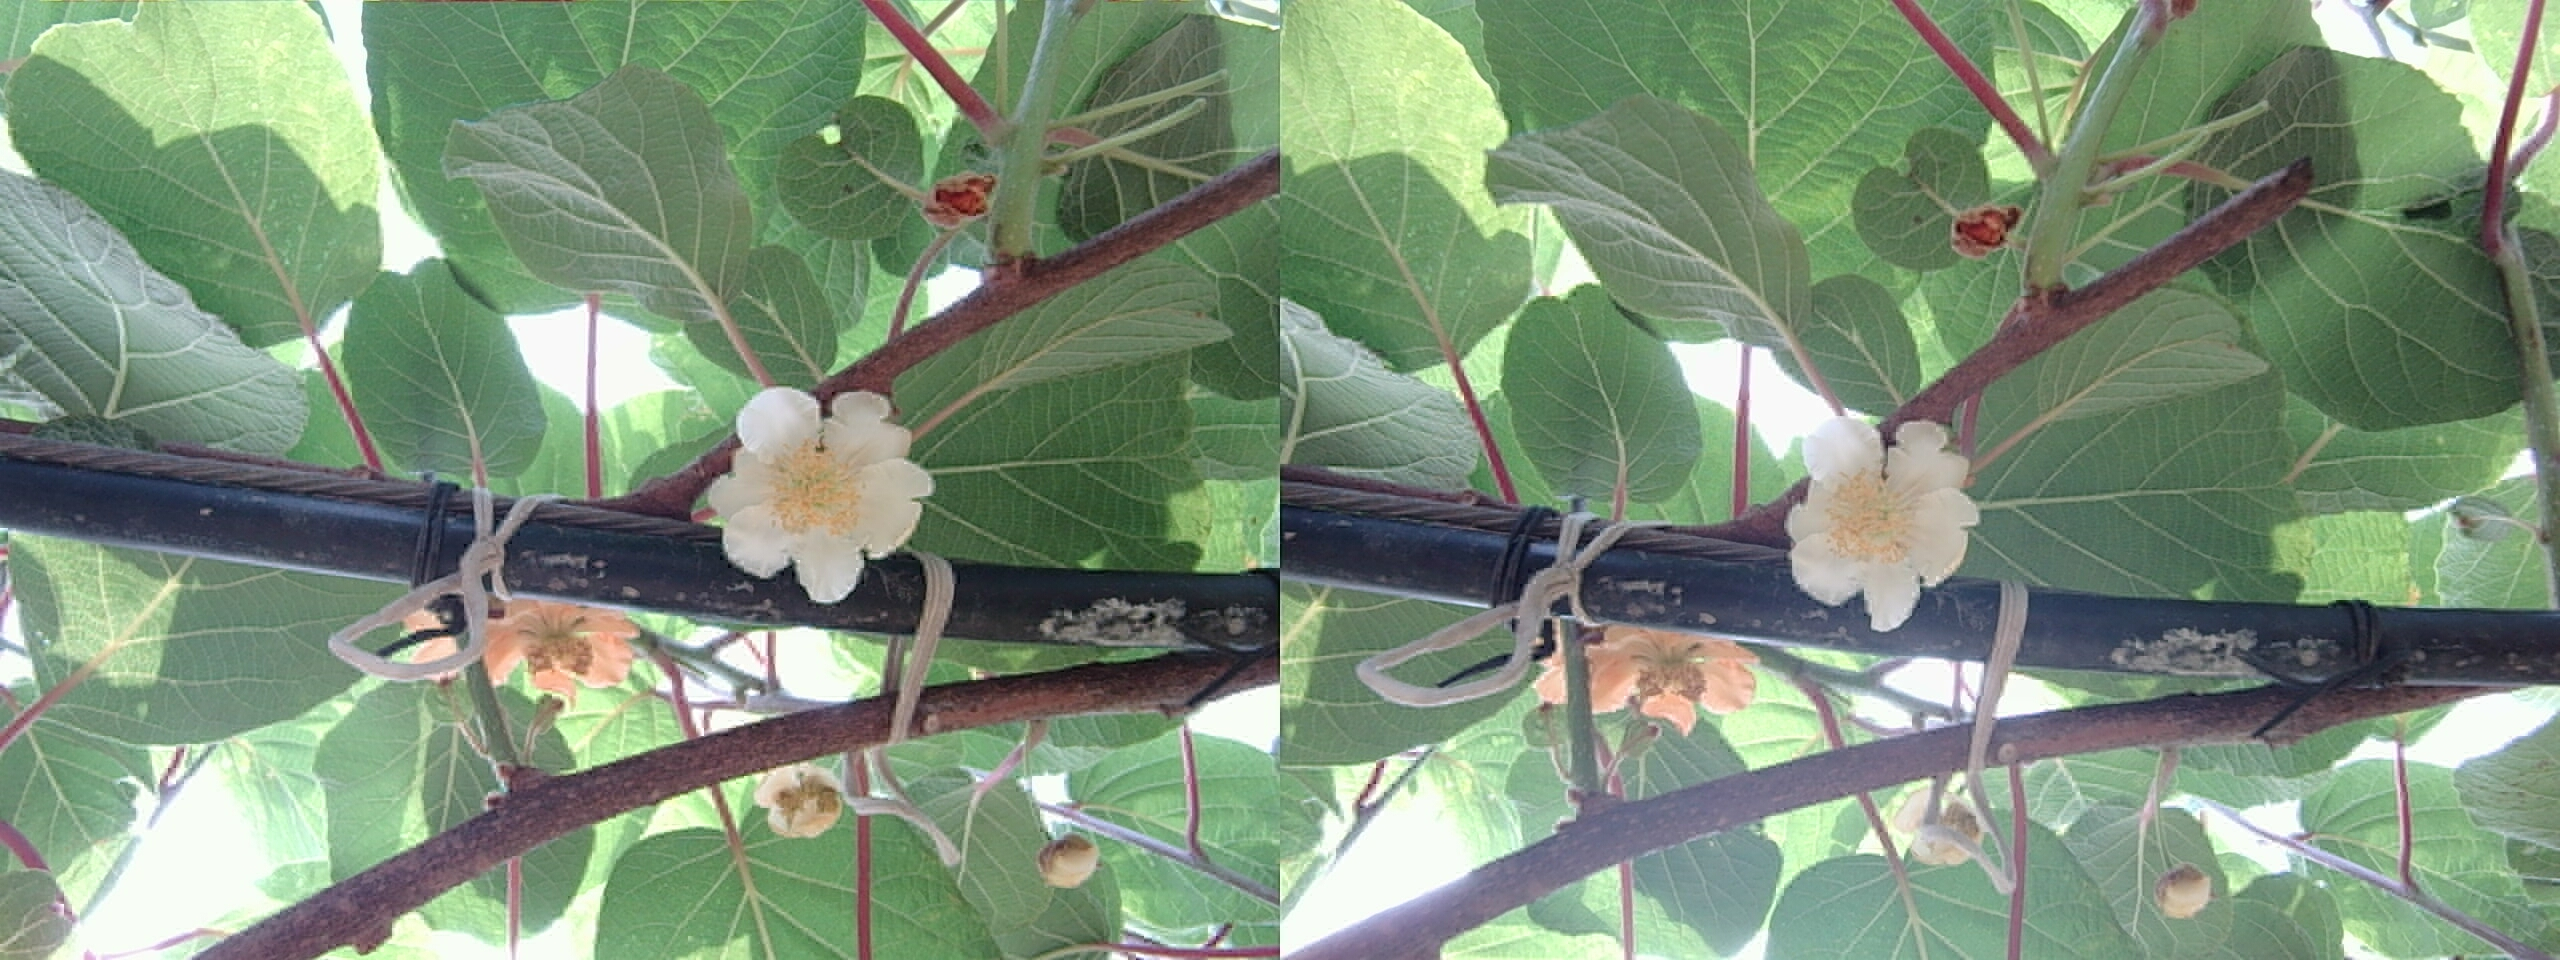flower: (704, 377, 926, 593), (1770, 397, 1979, 624)
